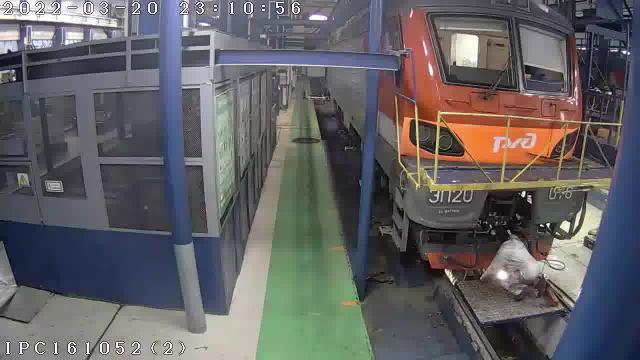person: (480, 230, 550, 301)
train: (376, 0, 585, 269)
